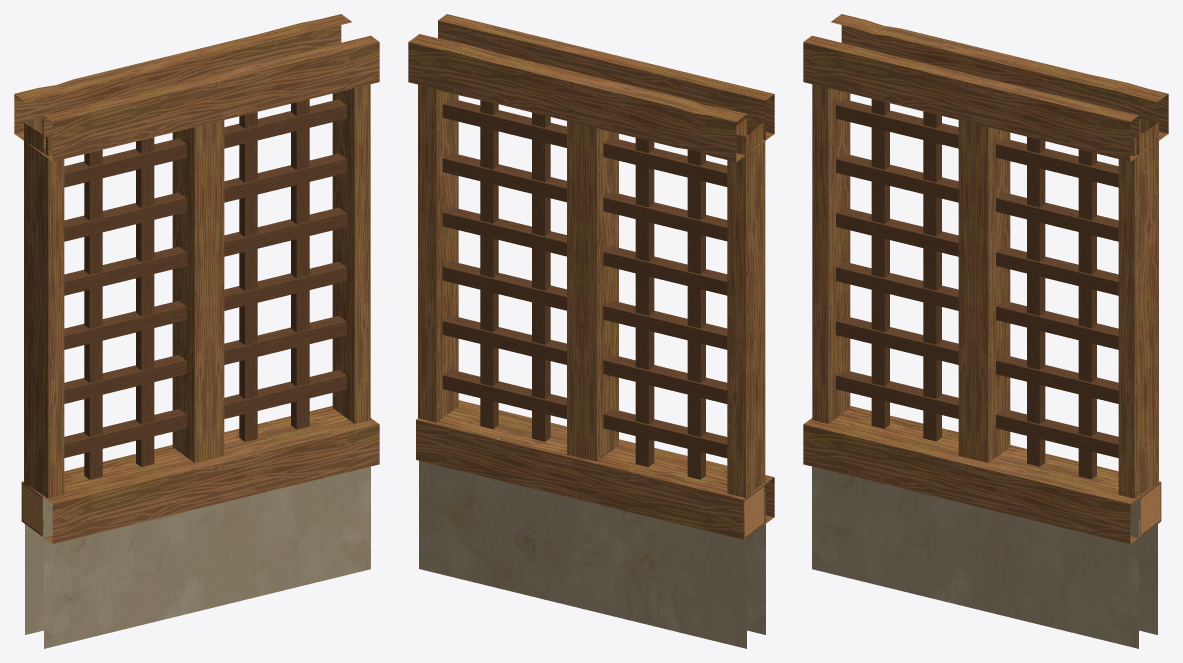
Rendered from wall-qm-wallplasterwoodgrid.glb.
The picture shows the model from 3 angles, left to right: view 1: azimuth 30°, elevation 25°; view 2: azimuth 150°, elevation 25°; view 3: azimuth 330°, elevation 25°; orthographic projection.
Visible parts, largest first — view 1: Cube_118; view 2: Cube_118; view 3: Cube_118.
Part boxes in pixels (box(x1,y1,x2,y2)): Cube_118: box(14, 14, 379, 648); Cube_118: box(408, 14, 774, 648); Cube_118: box(803, 14, 1168, 648).
Bounding box in the file's own units: 2 × 3.12 × 0.4065.
Materials: 2 (2 with a texture image).
